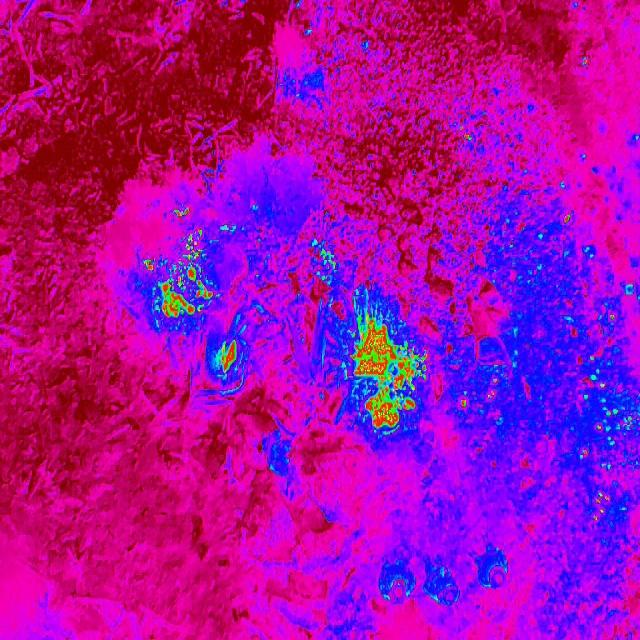fire: (564, 292, 640, 528), (346, 320, 432, 432), (144, 232, 213, 322), (456, 372, 504, 410), (216, 337, 240, 377), (558, 204, 576, 228), (320, 247, 334, 273), (458, 127, 474, 149), (172, 204, 190, 220)
